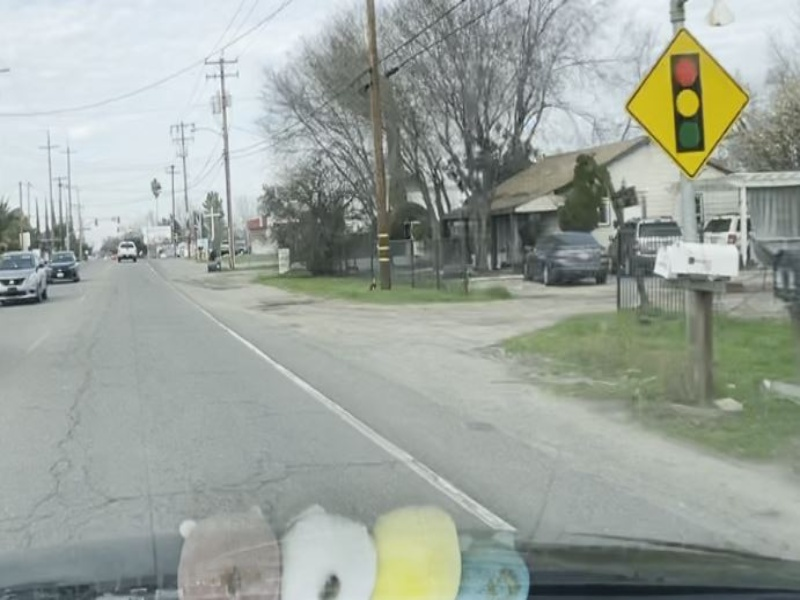traffic signal sign: (623, 28, 753, 179)
